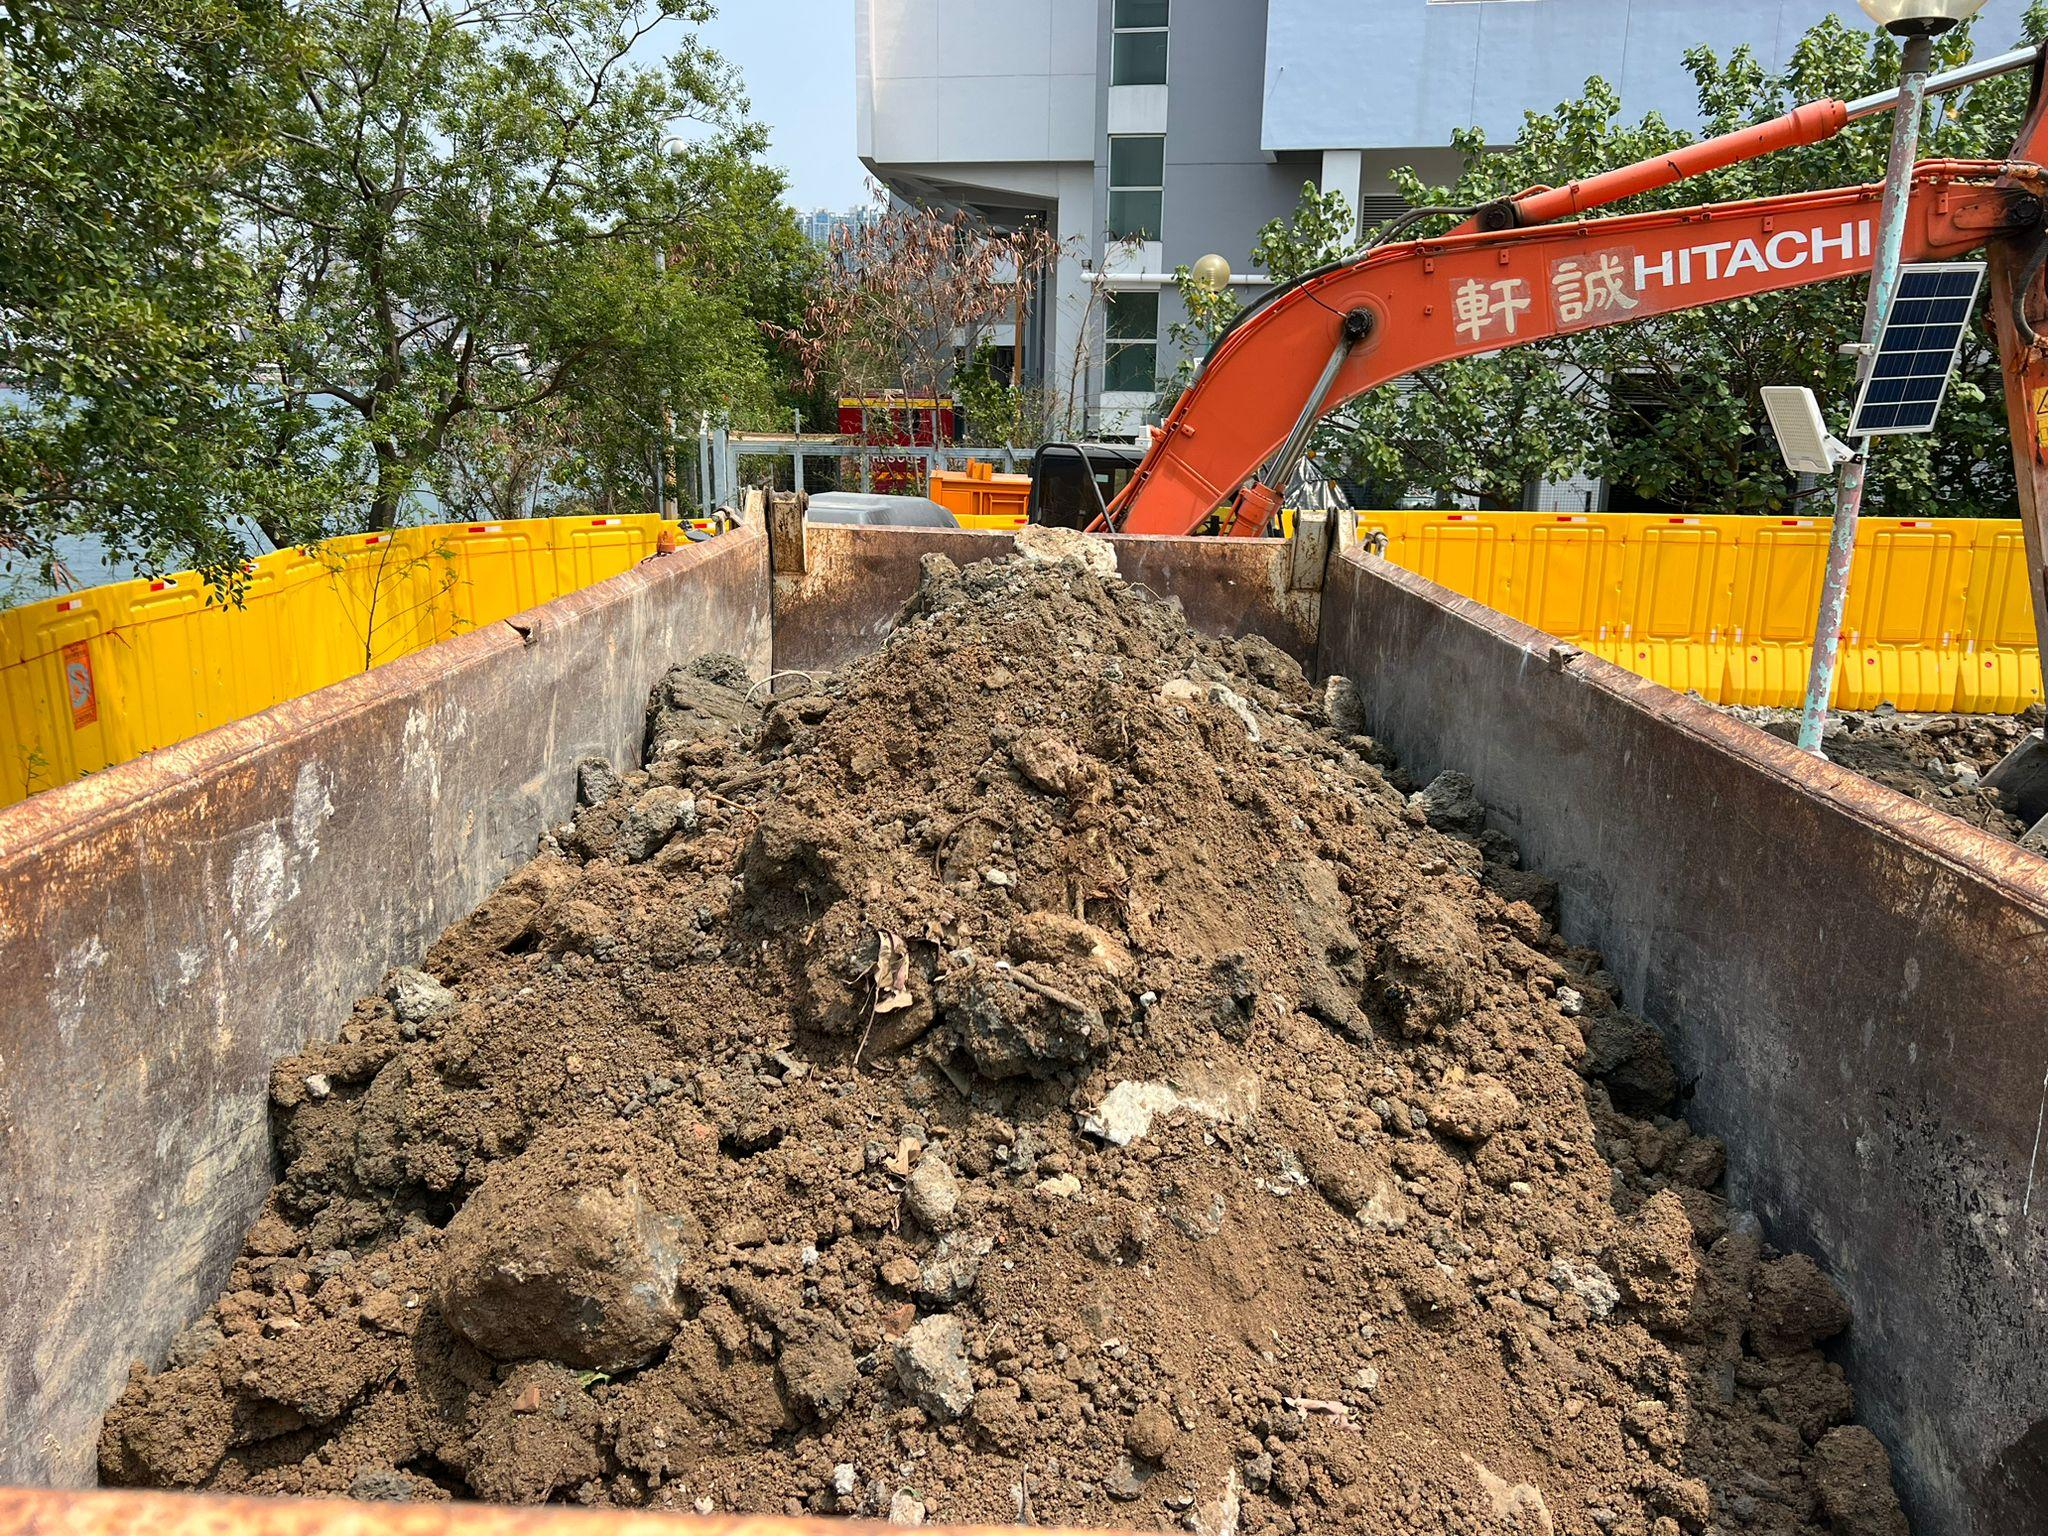dry: (119, 579, 1887, 1536)
